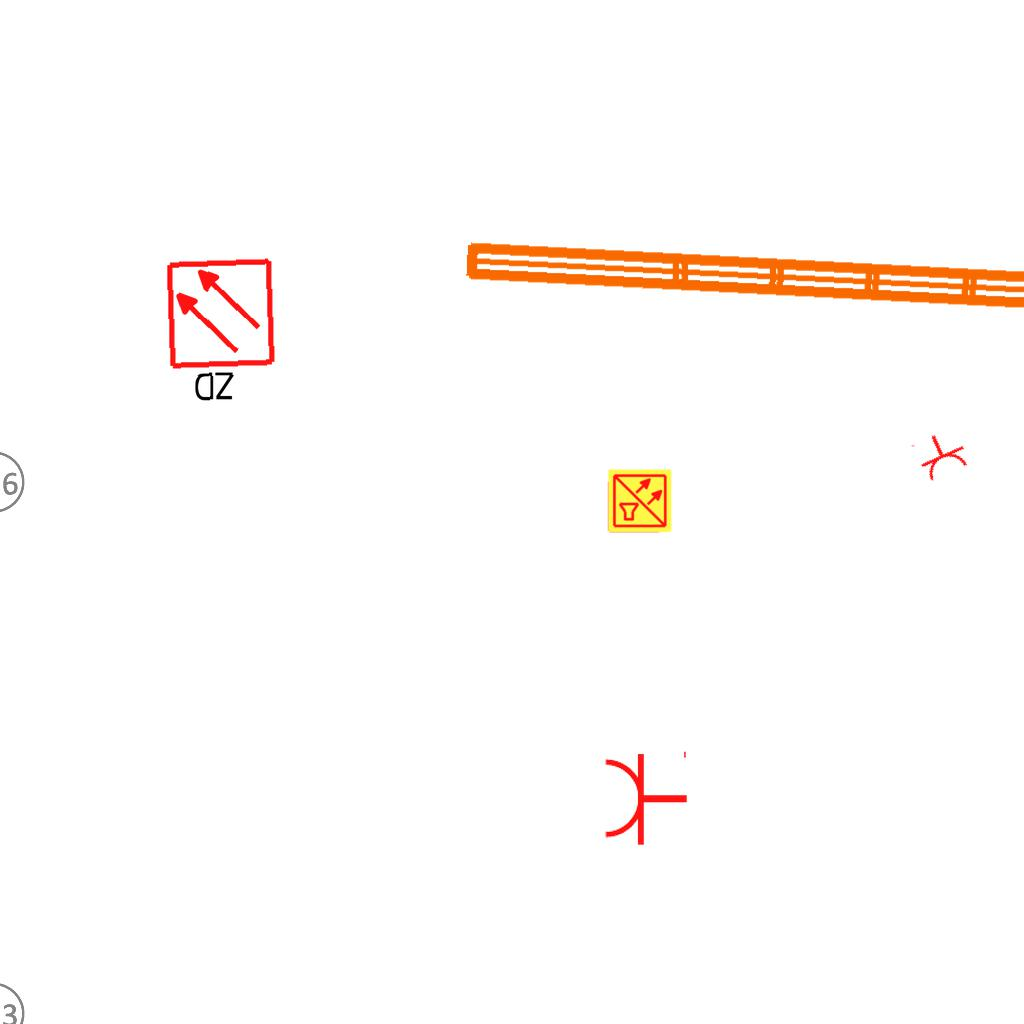Ambulanz_Pendelleuchte_LED: (454, 178, 1024, 332)
OKW_Multisensormelder_(Kombination_optischer_Rauch-Kahlenmonoxid_Waerme-Melder): (607, 468, 673, 534)
Schukosteckdose_einfach: (602, 747, 689, 847), (908, 425, 973, 485)
ZD_Melder_in_Zwischendecke_mit_Revisionsoeffnung_mind_40_x_40_cm: (163, 256, 283, 409)
